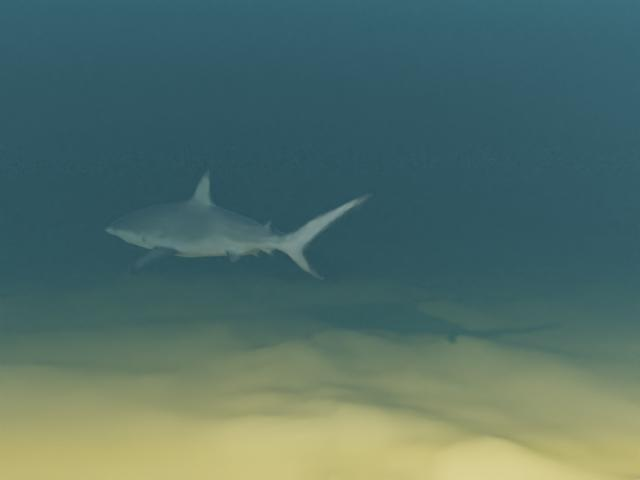Carribean Shark.001: (105, 169, 373, 279)
